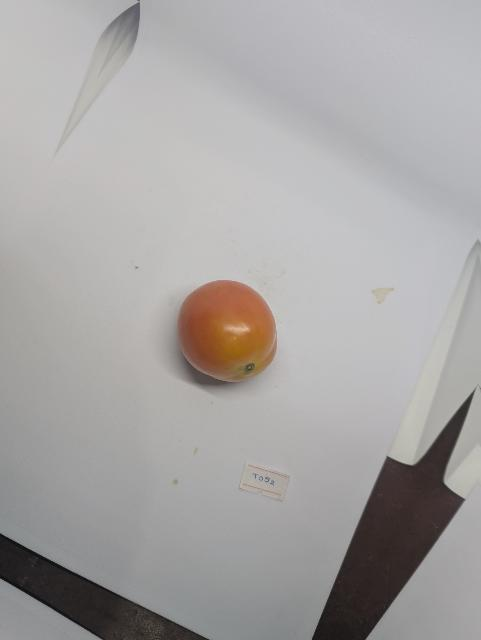turning: (173, 277, 285, 392)
